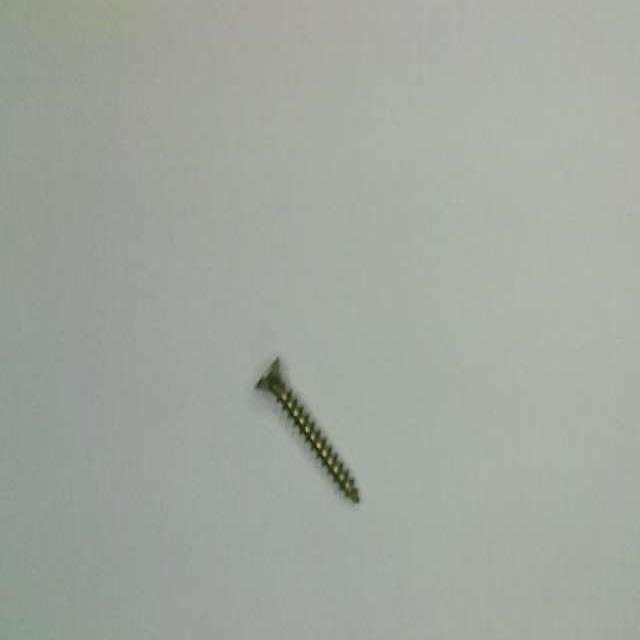Parafuso: (257, 359, 359, 500)
